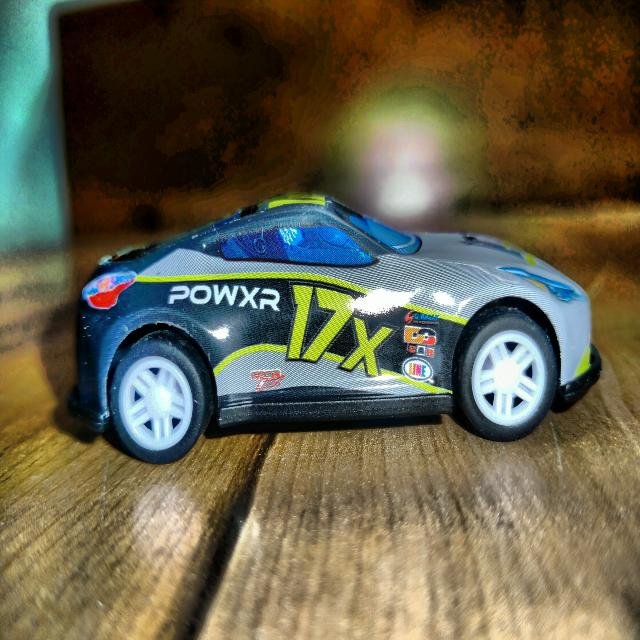Car: (68, 196, 600, 463)
